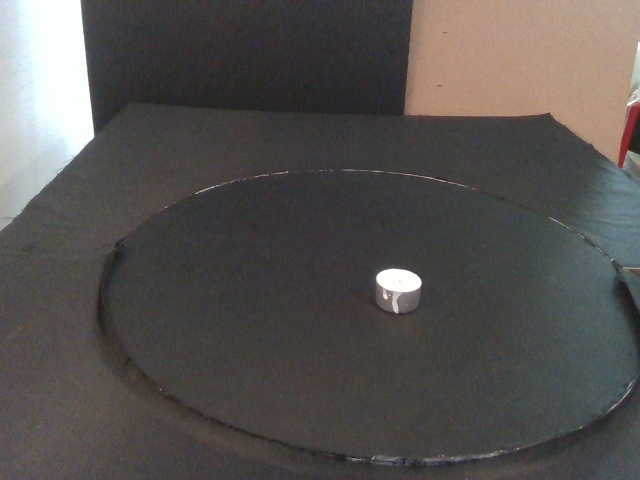candle: (374, 267, 423, 315)
